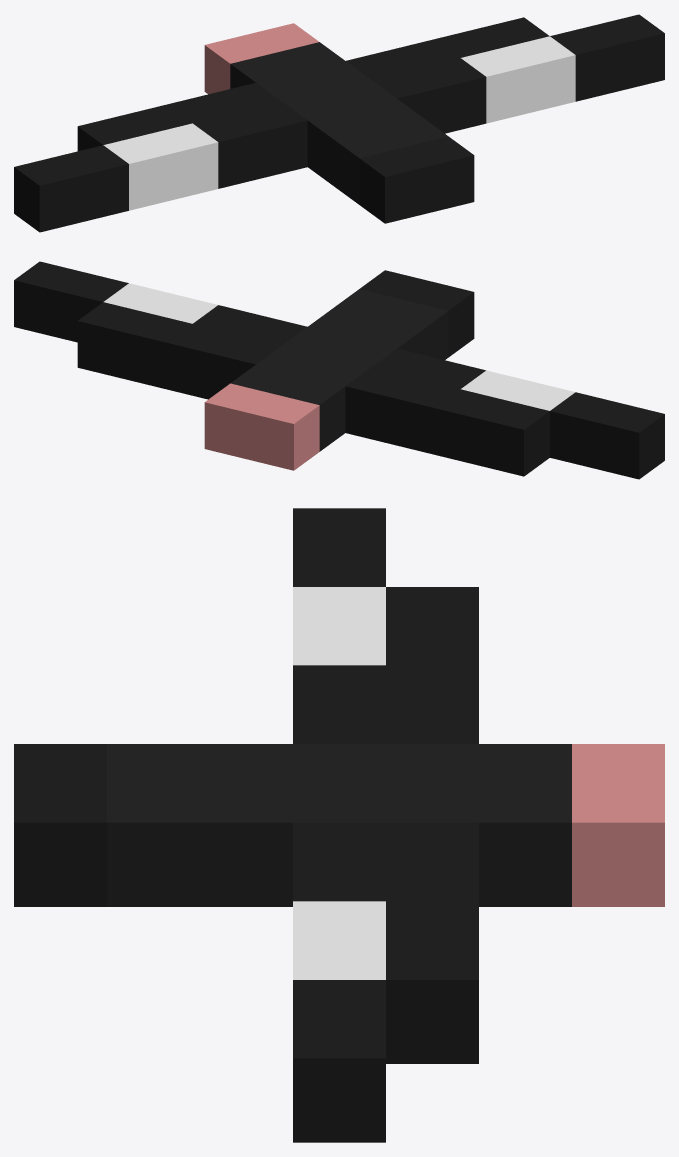
Rendered from Condor.fbx.
The picture shows the model from 3 angles, top to bottom: view 1: azimuth 30°, elevation 25°; view 2: azimuth 150°, elevation 25°; view 3: azimuth 270°, elevation 25°; orthographic projection. The views are drawn at different scales.
Visible parts, largest first — view 1: Condor; view 2: Condor; view 3: Condor.
Boxes of the visible parts, x1,y1,x2,y2 form: Condor: (14,14,664,232); Condor: (14,261,664,479); Condor: (14,508,664,1142).
Size of the model in its own units: 14 by 1 by 7.
